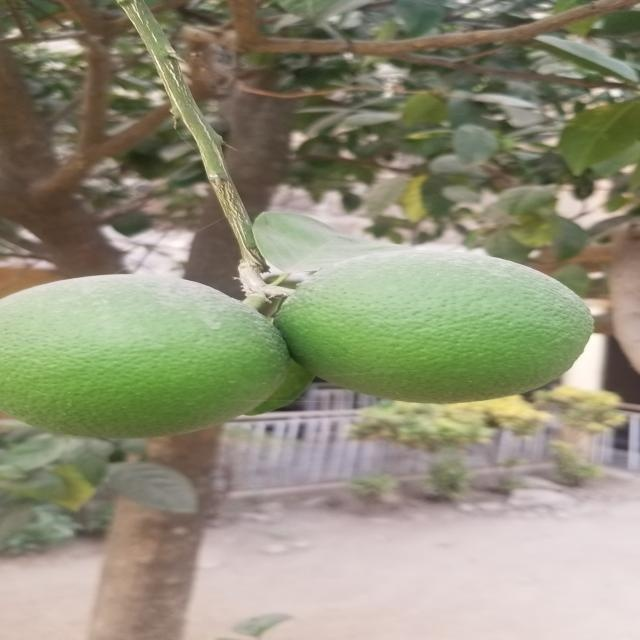agrume: (4, 273, 288, 438), (284, 249, 598, 391)
